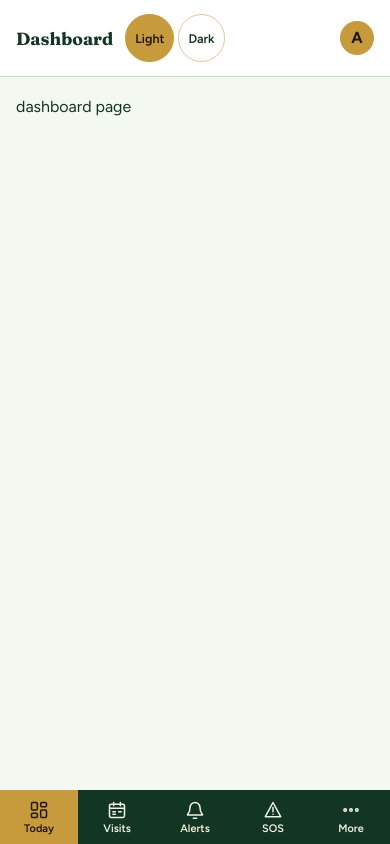
Test: AdminLayout phone navigation › closes the More list on Escape and returns focus to the button
This screenshot has width=390, height=844.
Click the button "More".
click(351, 817)  # box top-left (312, 790), bottom-right (389, 843)
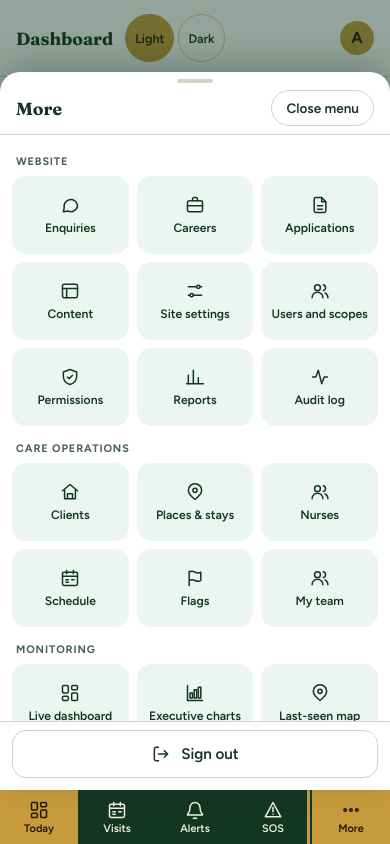
Press Escape
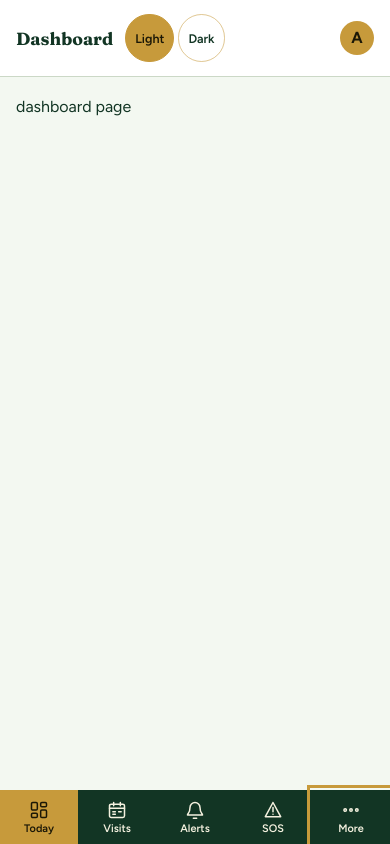
Now the dialog with id "admin-more" is gone
